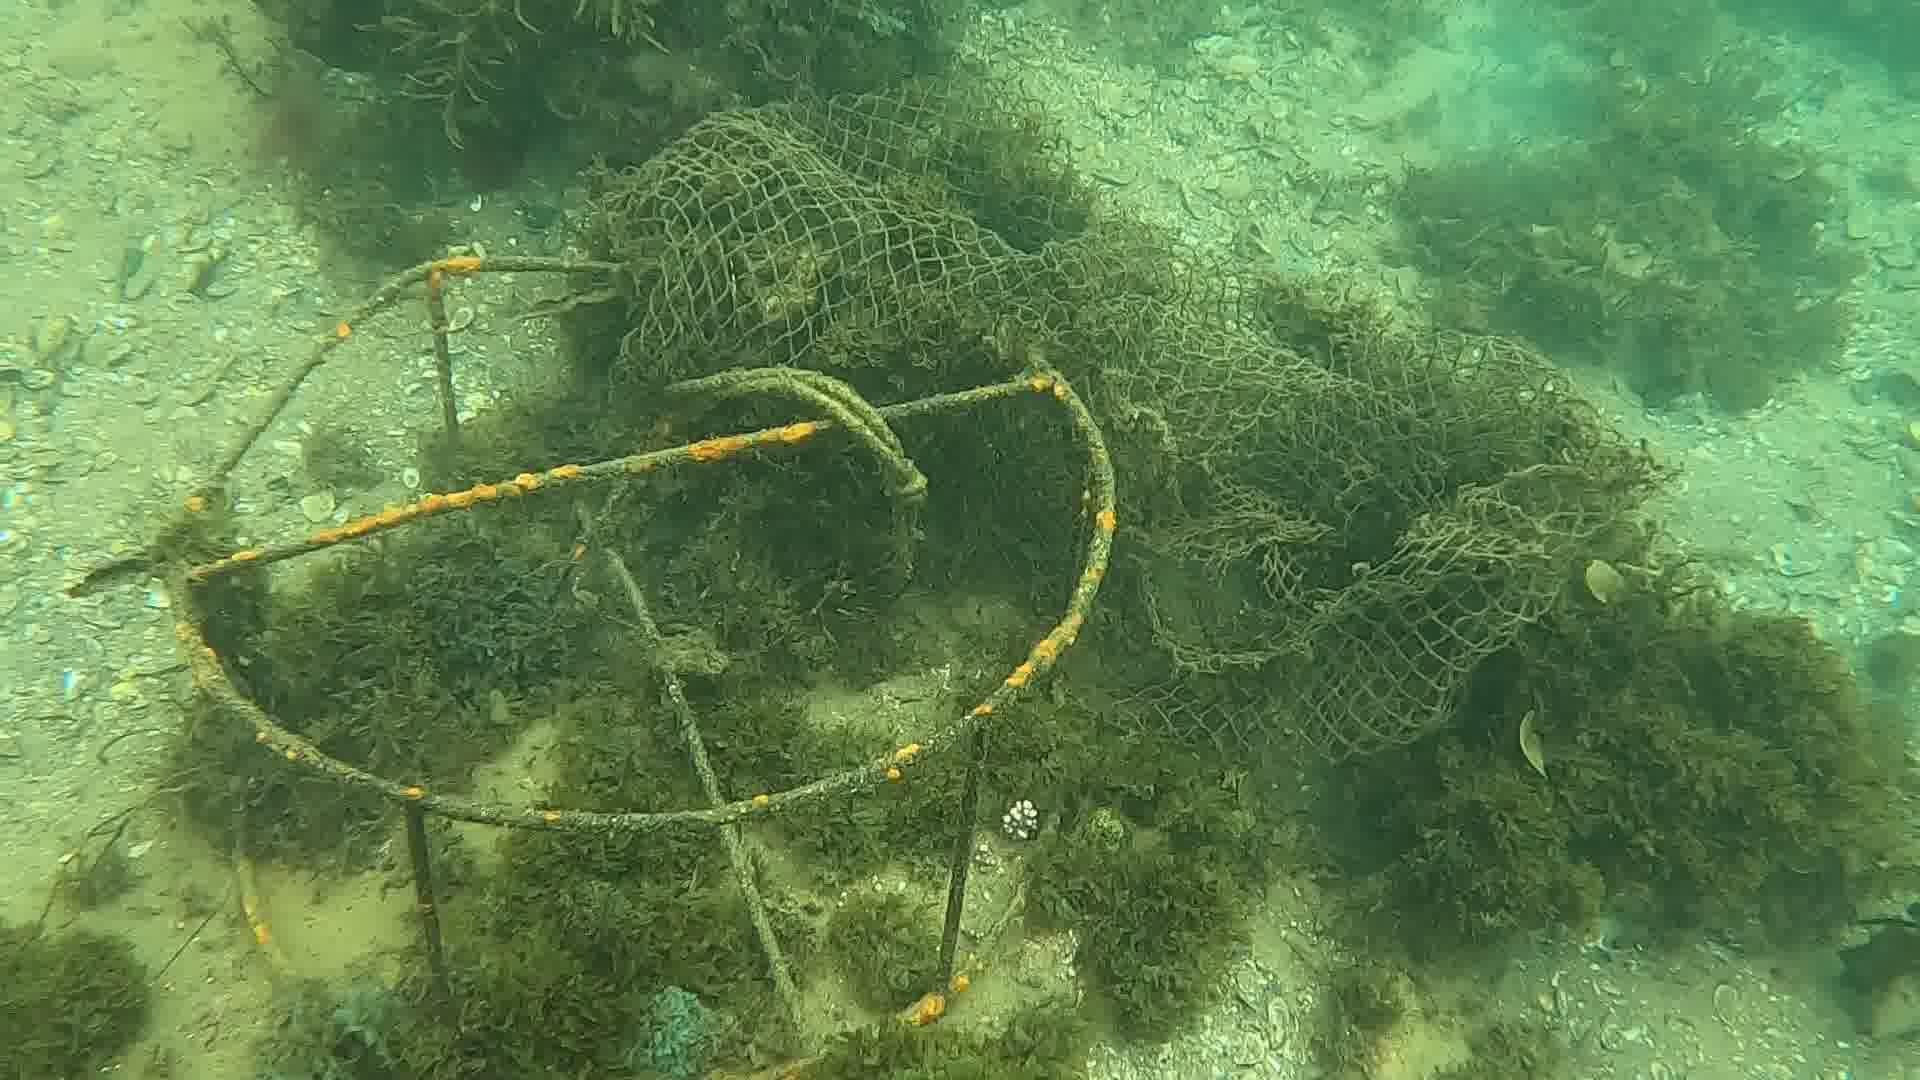bundle of ropes: (659, 363, 930, 538)
fish net: (604, 79, 1656, 767)
